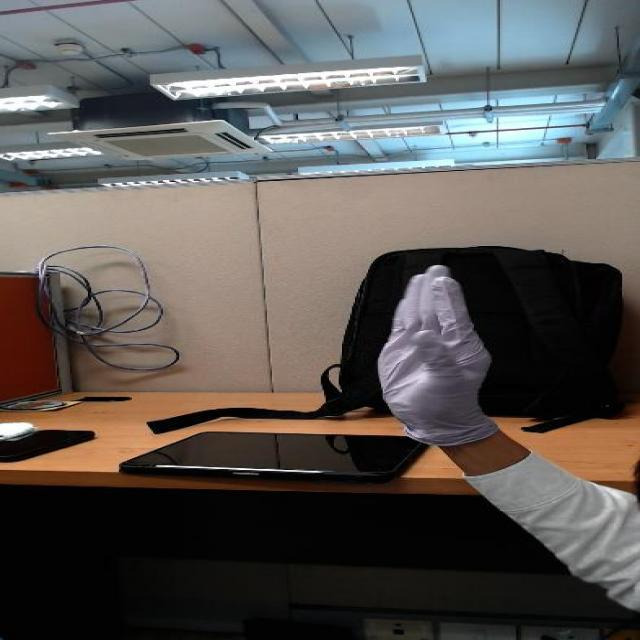with_gloves: (355, 254, 515, 392)
